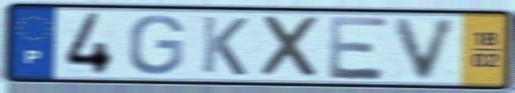4: (61, 11, 116, 78)
E: (327, 14, 392, 82)
G: (125, 13, 187, 77)
K: (198, 14, 251, 78)
V: (390, 16, 464, 83)
X: (260, 13, 325, 81)
